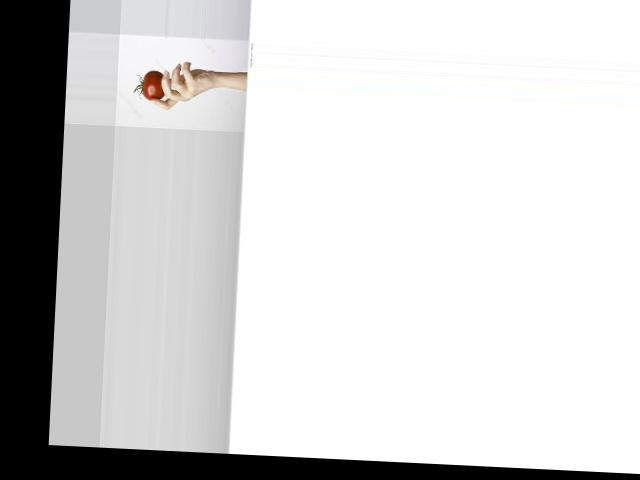tomato: (133, 69, 165, 100)
